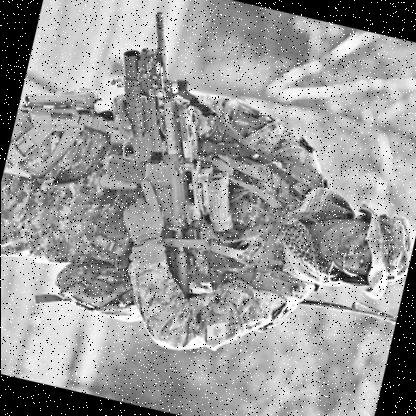rifle: (71, 14, 245, 276)
